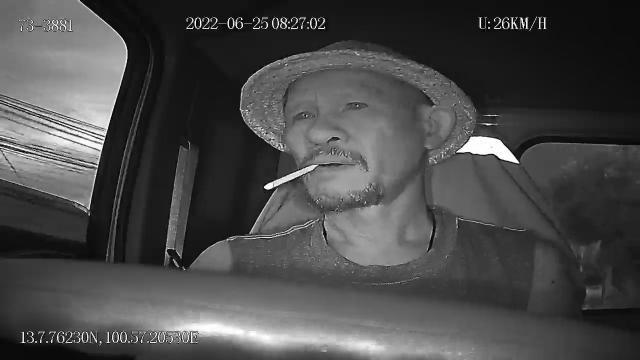SafeDriving: (338, 92, 376, 117), (289, 102, 322, 126)
Smoking: (263, 163, 319, 191)
